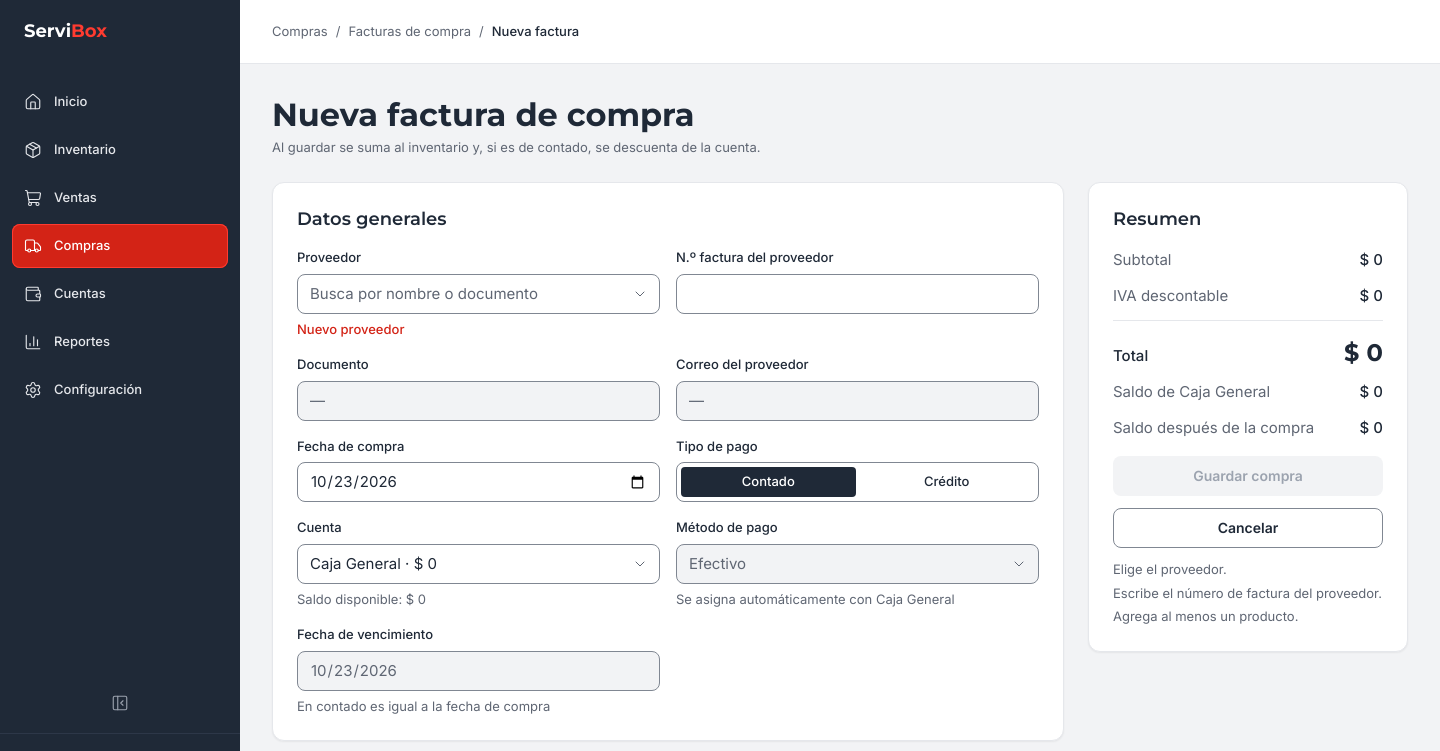
it: Nueva factura de compra con proveedor preseleccionado › ignora un id inexistente y arranca sin proveedor
This screenshot has width=1440, height=751.
Expected: the heading "Nueva factura de compra" is shown, x1=272 y1=95 x2=694 y2=134
Note: Con la lista ya cargada (sus opciones aparecen) el campo sigue vacio.
Click the dropdown labelled "Proveedor": (478, 294) x1=297 y1=274 x2=660 y2=314
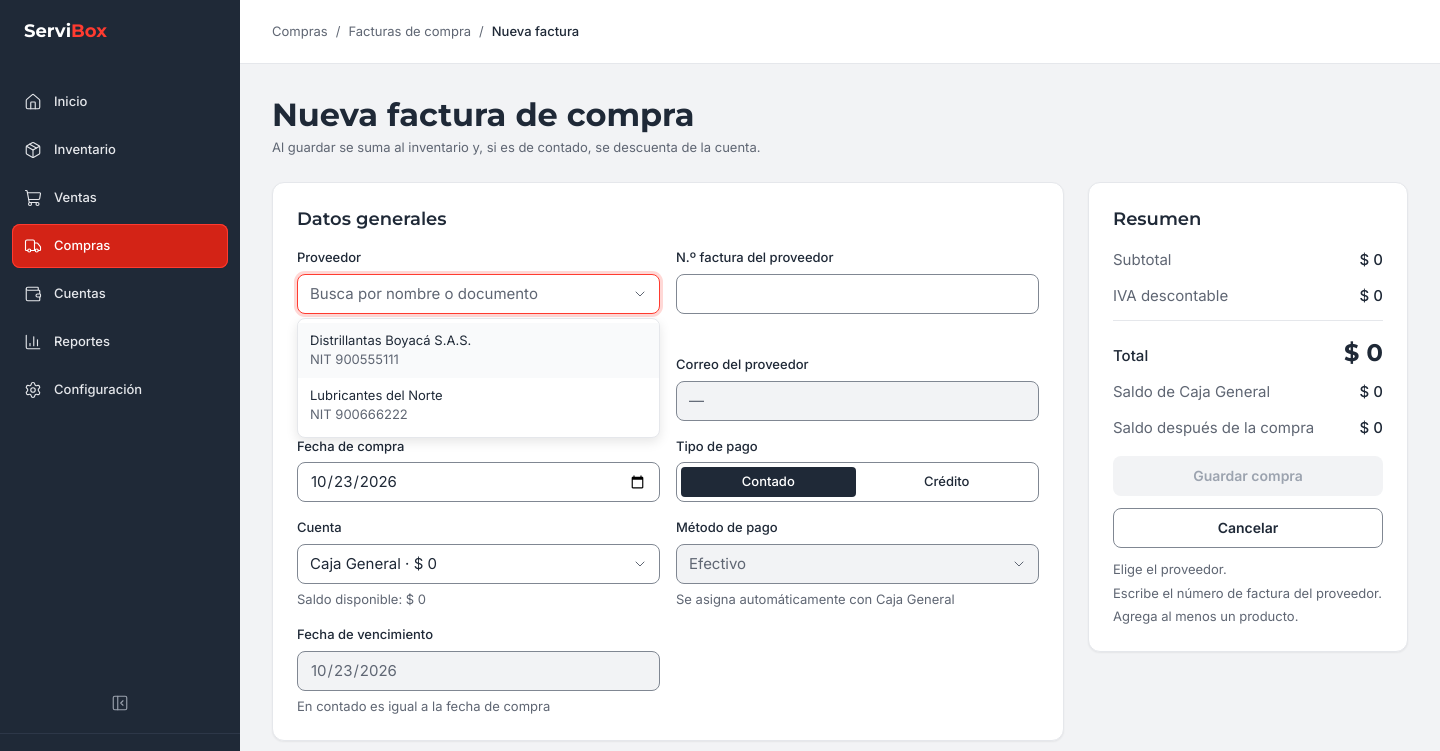
Expected: the option "Distrillantas Boyacá S.A.S. NIT 900555111" is shown, x1=298 y1=323 x2=659 y2=378
